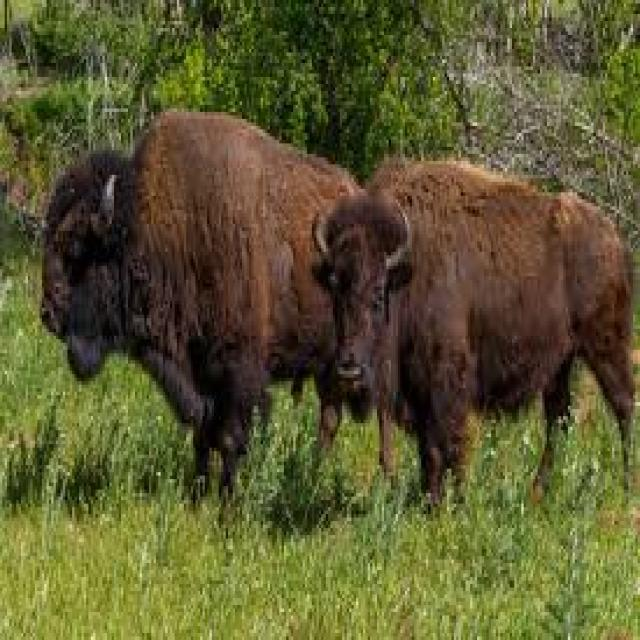Bison: (26, 90, 413, 493), (316, 164, 640, 523)
